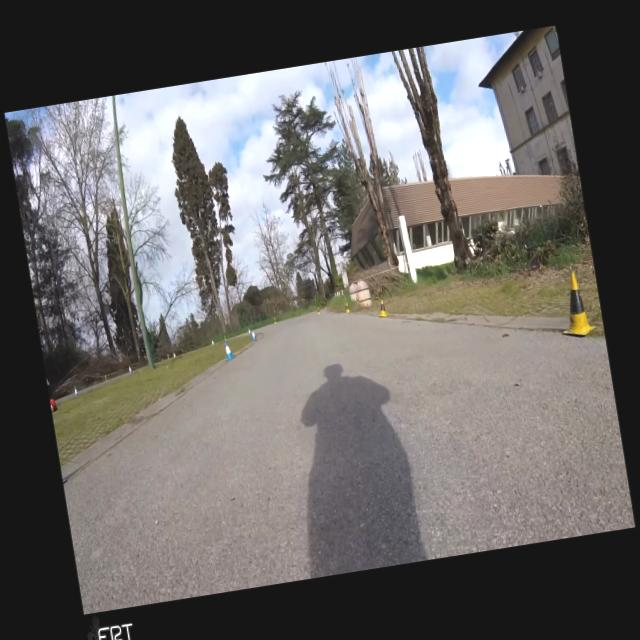blue_cone: (223, 340, 235, 360), (251, 328, 257, 342), (74, 385, 78, 397), (128, 365, 132, 374), (248, 328, 251, 334), (211, 340, 214, 346), (173, 352, 176, 358)
orange_cone: (50, 398, 58, 412)
yellow_cone: (553, 269, 597, 339), (377, 299, 388, 318), (344, 302, 350, 313), (316, 308, 320, 314), (273, 317, 277, 323), (167, 353, 170, 359), (224, 335, 226, 340)
